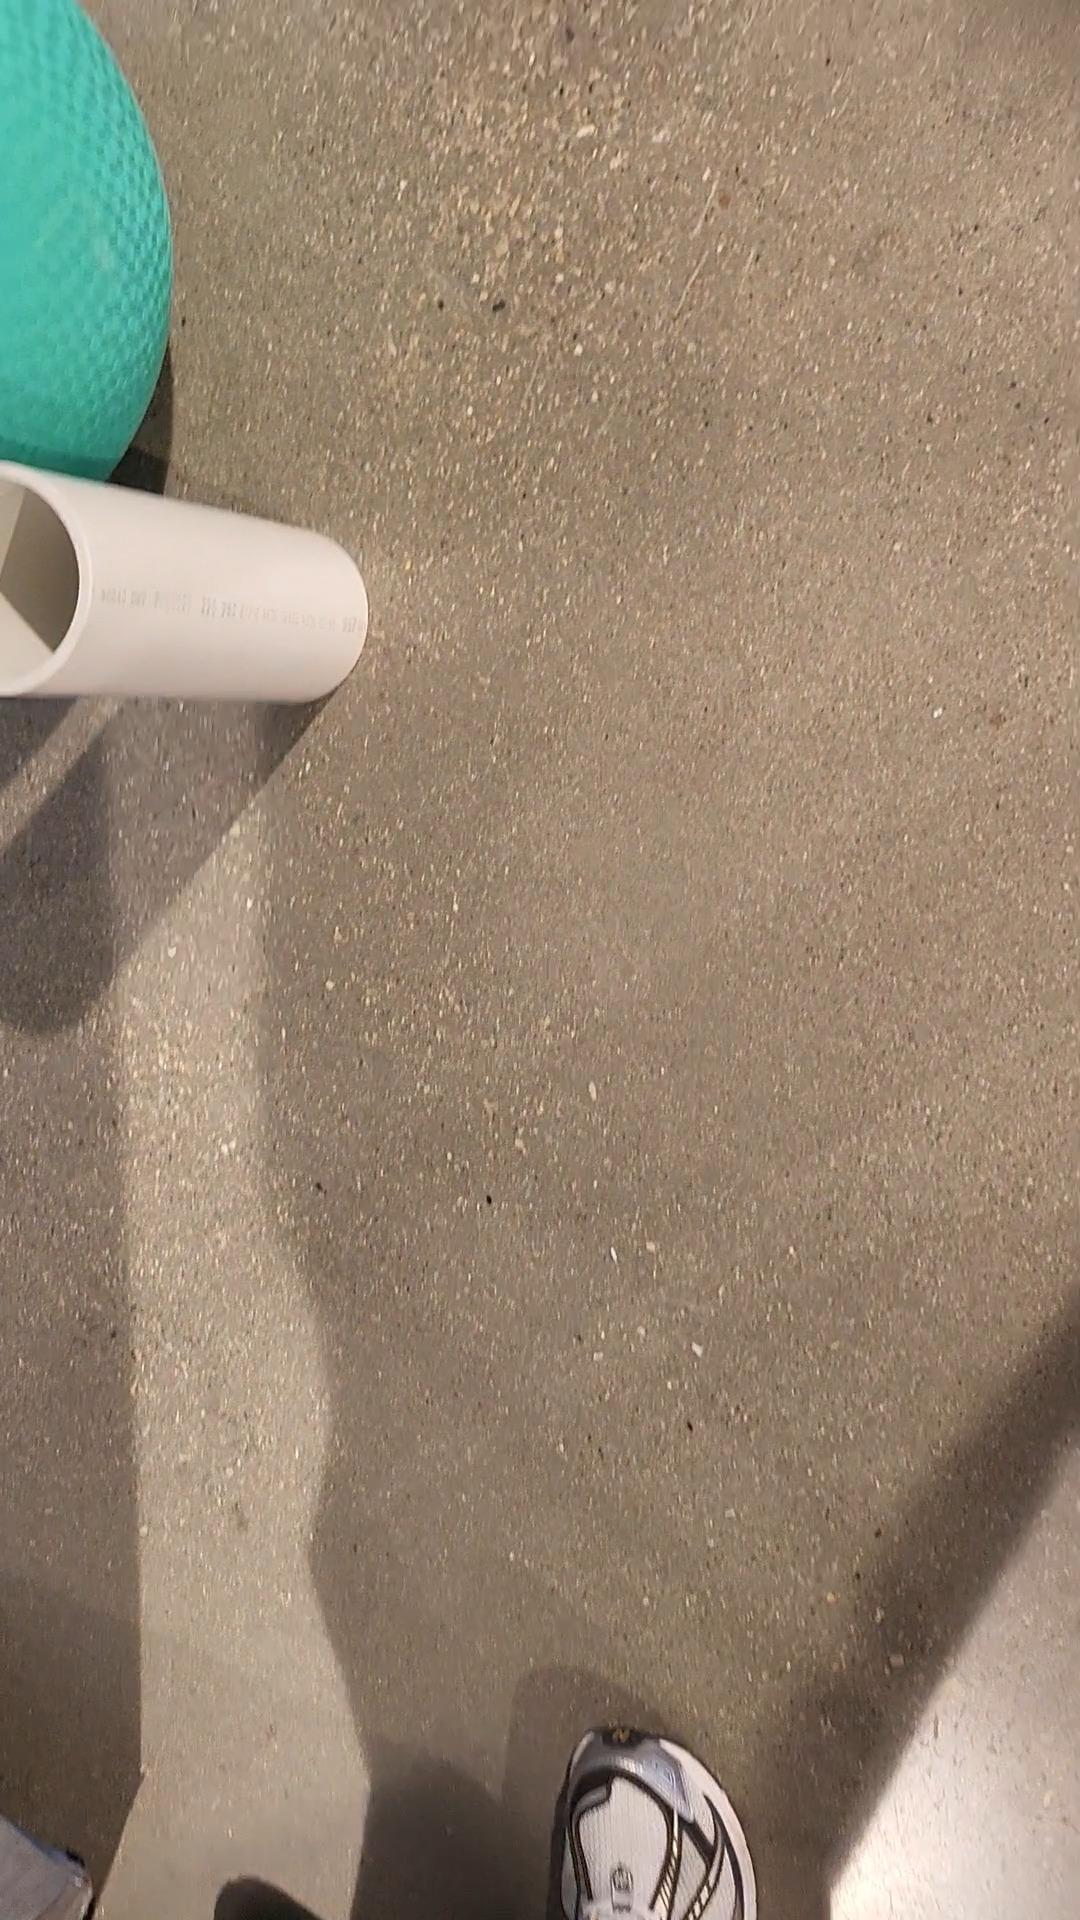algae: (0, 0, 179, 491)
coral: (0, 450, 372, 708)
